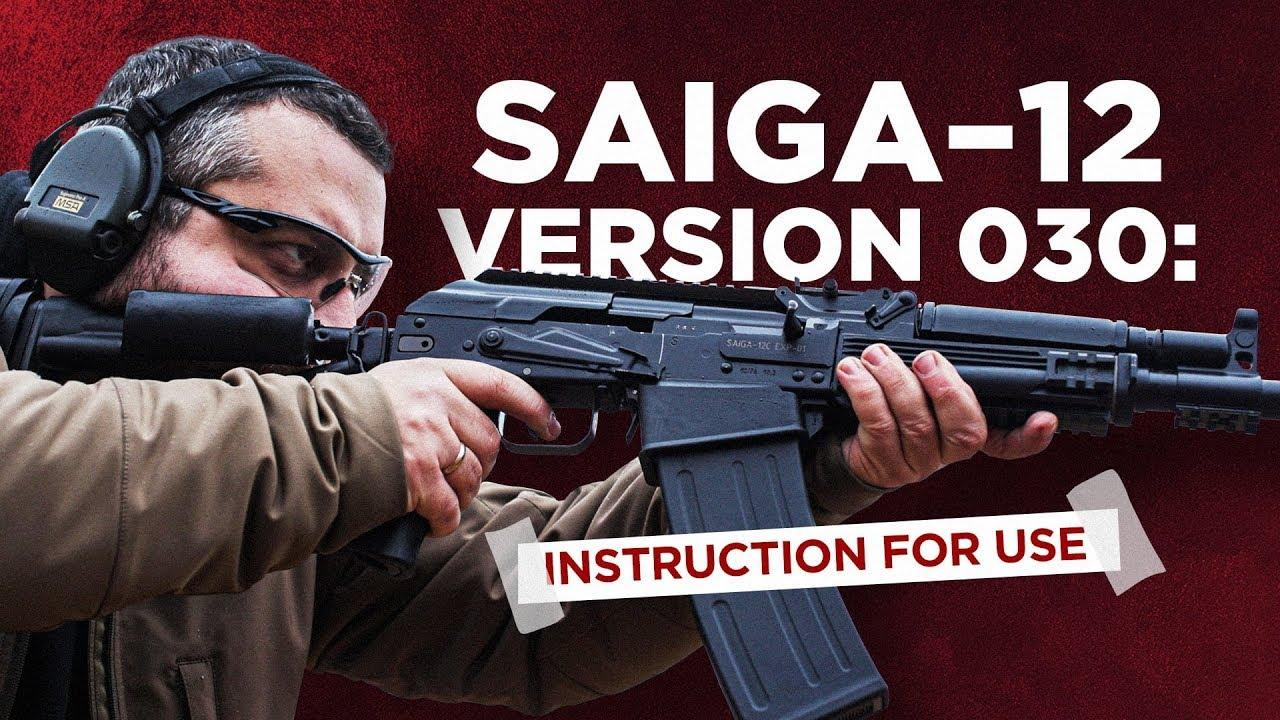larga: (0, 277, 1280, 720)
